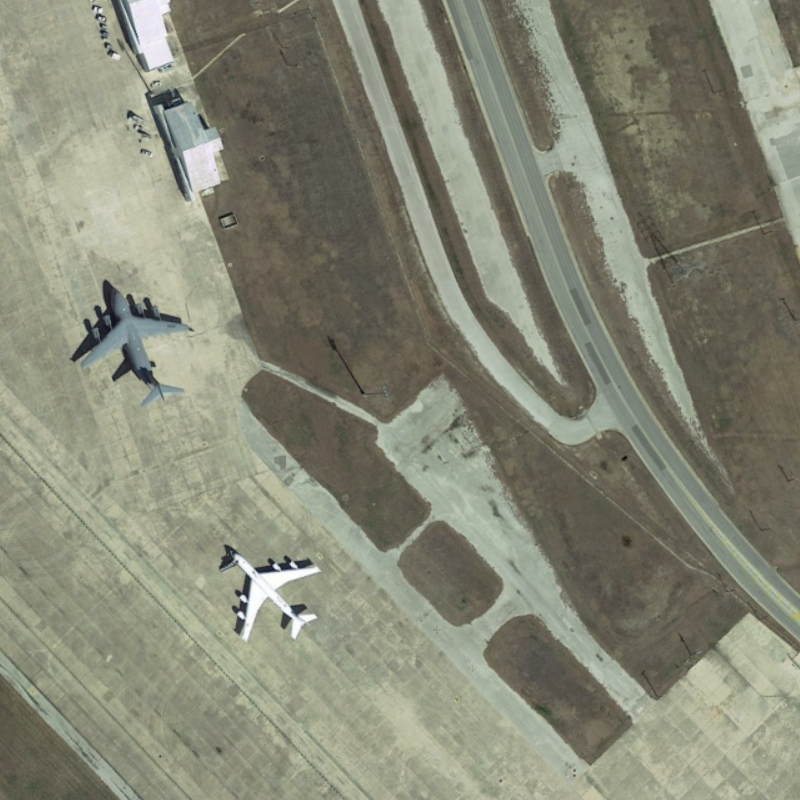A11: (214, 541, 327, 650)
A3: (71, 278, 201, 419)
